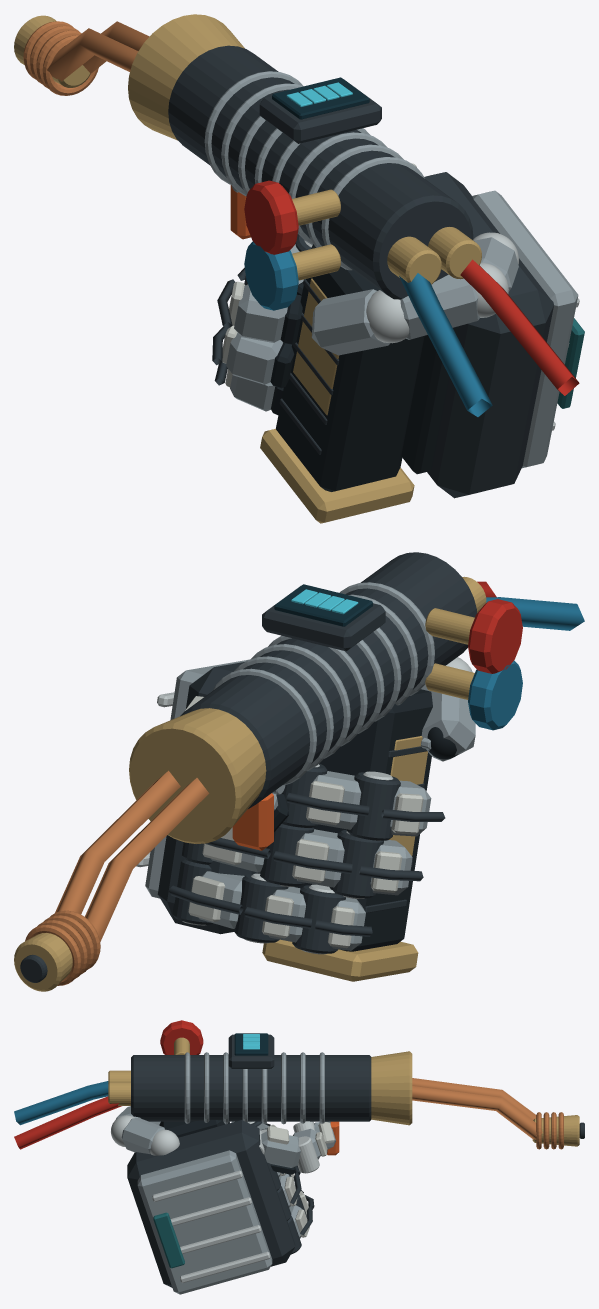
Rendered from tool_cutter.glb.
3 renders of one model, top to bottom at view 1: azimuth 30°, elevation 25°; view 2: azimuth 150°, elevation 25°; view 3: azimuth 270°, elevation 25°, orthographic. The views are drawn at different scales.
Parts seen in each view (by area): view 1: tool, hand, heat; view 2: tool, hand, heat; view 3: tool, hand, heat.
Part boxes in pixels (box(x1,y1,x2,y2)): tool: box(23, 14, 579, 523); hand: box(212, 163, 584, 498); heat: box(14, 15, 90, 87); tool: box(20, 552, 584, 985); hand: box(136, 657, 475, 954); heat: box(14, 933, 72, 991); tool: box(14, 1020, 584, 1155); hand: box(111, 1106, 335, 1294); heat: box(532, 1115, 579, 1146).
Size of the model in its own units: 0.1495 by 0.1846 by 0.4264.
